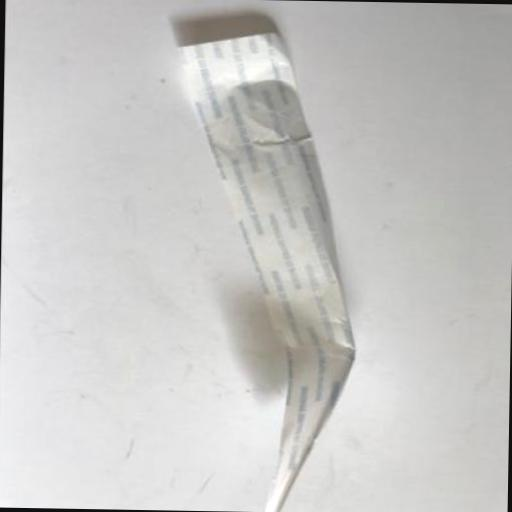paper: (164, 31, 357, 512)
